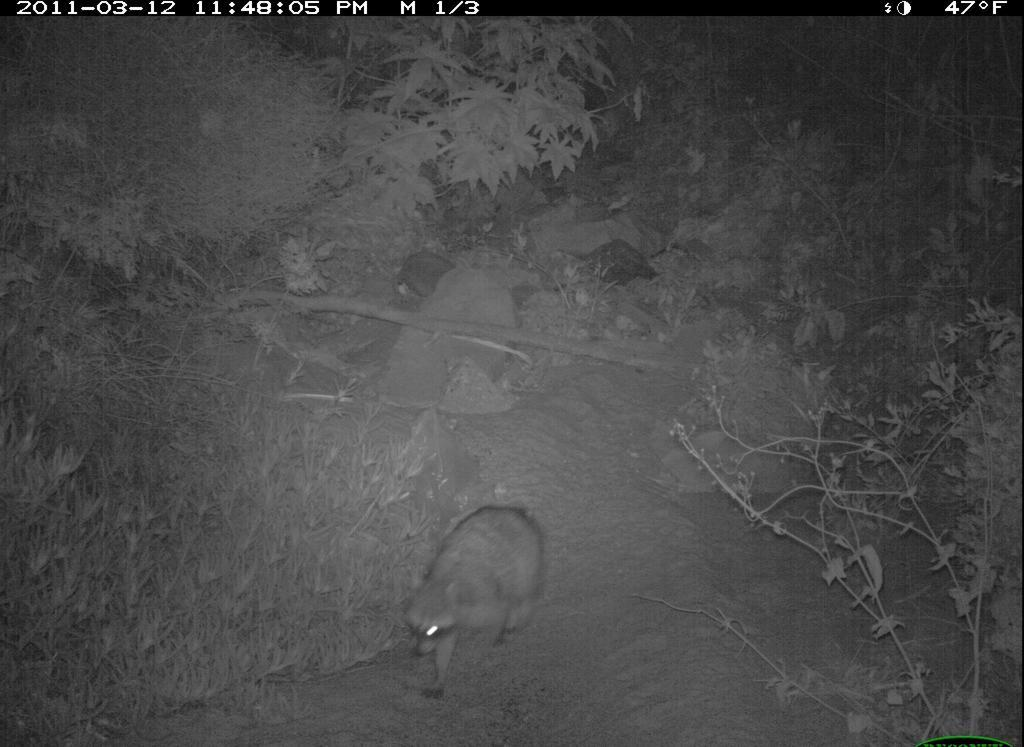raccoon: (401, 489, 560, 705)
